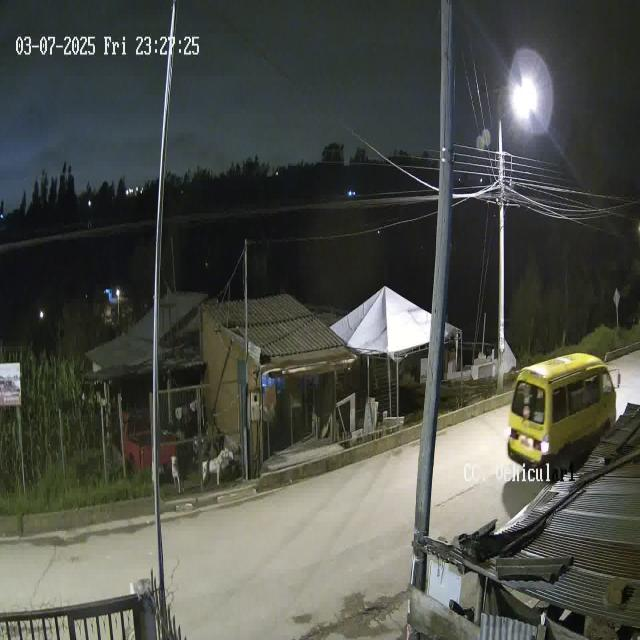BUS: (506, 352, 619, 484)
